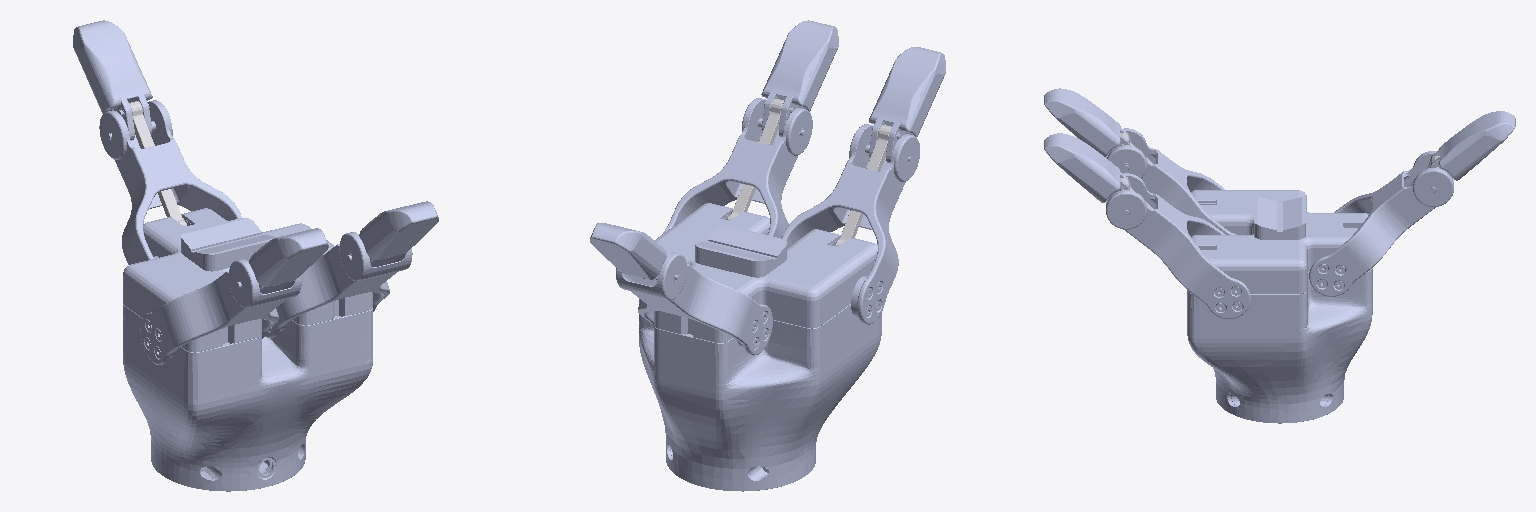
The robot description file, URDF, robot "crt_ctmg60_async":
<?xml version="1.0" encoding="utf-8"?>
<!-- This URDF was automatically created by SolidWorks to URDF Exporter! Originally created by Stephen Brawner (brawner@gmail.com) 
     Commit Version: 1.6.0-4-g7f85cfe  Build Version: 1.6.7995.38578
     For more information, please see http://wiki.ros.org/sw_urdf_exporter -->
<robot
  name="crt_ctmg60_async">
  <link
    name="base_link">
    <inertial>
      <origin
        xyz="1.06612975008198E-07 0.0651640687982908 0.00506261907181519"
        rpy="0 0 0" />
      <mass
        value="0.738980434592975" />
      <inertia
        ixx="0.00100260873098332"
        ixy="-6.39169163348383E-10"
        ixz="1.51412165015777E-09"
        iyy="0.00105454381646248"
        iyz="-3.29653574727043E-05"
        izz="0.00101986742199656" />
    </inertial>
    <visual>
      <origin
        xyz="0 0 0"
        rpy="0 0 0" />
      <geometry>
        <mesh
          filename="package://crt_ctmg60_gripper_visualization/meshes/base_link.STL" />
      </geometry>
      <material
        name="">
        <color
          rgba="0.792156862745098 0.819607843137255 0.933333333333333 1" />
      </material>
    </visual>
    <collision>
      <origin
        xyz="0 0 0"
        rpy="0 0 0" />
      <geometry>
        <mesh
          filename="package://crt_ctmg60_gripper_visualization/meshes/base_link.STL" />
      </geometry>
    </collision>
  </link>
  <link
    name="Left_1_Link">
    <inertial>
      <origin
        xyz="0.000273262855643795 0.0233261913433204 0.0285976471263432"
        rpy="0 0 0" />
      <mass
        value="0.0215071167822642" />
      <inertia
        ixx="1.4011468942223E-05"
        ixy="-1.39326201422641E-12"
        ixz="4.52201367689742E-12"
        iyy="1.43883315565052E-05"
        iyz="-5.85766504607096E-06"
        izz="1.16107641484436E-05" />
    </inertial>
    <visual>
      <origin
        xyz="0 0 0"
        rpy="0 0 0" />
      <geometry>
        <mesh
          filename="package://crt_ctmg60_gripper_visualization/meshes/Left_1_Link.STL" />
      </geometry>
      <material
        name="">
        <color
          rgba="0.792156862745098 0.819607843137255 0.933333333333333 1" />
      </material>
    </visual>
    <collision>
      <origin
        xyz="0 0 0"
        rpy="0 0 0" />
      <geometry>
        <mesh
          filename="package://crt_ctmg60_gripper_visualization/meshes/Left_1_Link.STL" />
      </geometry>
    </collision>
  </link>
  <joint
    name="Left_1_Joint"
    type="revolute">
    <origin
      xyz="0.0308 -0.03 0.09"
      rpy="1.5708 0 0" />
    <parent
      link="base_link" />
    <child
      link="Left_1_Link" />
    <axis
      xyz="-1 0 0" />
    <limit
      lower="0"
      upper="0.85"
      effort="2"
      velocity="1000" />
  </joint>
  <link
    name="Left_Finger_1_Link">
    <inertial>
      <origin
        xyz="-9.99979337239602E-05 0.0173304377742645 0.0254053992545981"
        rpy="0 0 0" />
      <mass
        value="0.0169639919301774" />
      <inertia
        ixx="3.45765752035242E-06"
        ixy="4.57118773032997E-13"
        ixz="-2.06074112843252E-12"
        iyy="2.68992022173363E-06"
        iyz="-1.39088232989287E-06"
        izz="2.17888844054312E-06" />
    </inertial>
    <visual>
      <origin
        xyz="0 0 0"
        rpy="0 0 0" />
      <geometry>
        <mesh
          filename="package://crt_ctmg60_gripper_visualization/meshes/Left_Finger_1_Link.STL" />
      </geometry>
      <material
        name="">
        <color
          rgba="0.792156862745098 0.819607843137255 0.933333333333333 1" />
      </material>
    </visual>
    <collision>
      <origin
        xyz="0 0 0"
        rpy="0 0 0" />
      <geometry>
        <mesh
          filename="package://crt_ctmg60_gripper_visualization/meshes/Left_Finger_1_Link.STL" />
      </geometry>
    </collision>
  </link>
  <joint
    name="Left_Finger_1_Joint"
    type="revolute">
    <origin
      xyz="0.0002 0.053831 0.056101"
      rpy="0 0 0" />
    <parent
      link="Left_1_Link" />
    <child
      link="Left_Finger_1_Link" />
    <axis
      xyz="1 0 0" />
    <limit
      lower="0"
      upper="0"
      effort="0"
      velocity="0" />
    <mimic
      joint="Left_1_Joint"
      multiplier="-1.8"
      offset="0" />
  </joint>
  <link
    name="Left_2_Link">
    <inertial>
      <origin
        xyz="0.000273262855643771 0.0233261913433325 0.028597647126332"
        rpy="0 0 0" />
      <mass
        value="0.0215071167822642" />
      <inertia
        ixx="1.40114689422229E-05"
        ixy="-1.39326201284651E-12"
        ixz="4.52201368325671E-12"
        iyy="1.43883315564992E-05"
        iyz="-5.85766504607237E-06"
        izz="1.16107641484496E-05" />
    </inertial>
    <visual>
      <origin
        xyz="0 0 0"
        rpy="0 0 0" />
      <geometry>
        <mesh
          filename="package://crt_ctmg60_gripper_visualization/meshes/Left_2_Link.STL" />
      </geometry>
      <material
        name="">
        <color
          rgba="0.792156862745098 0.819607843137255 0.933333333333333 1" />
      </material>
    </visual>
    <collision>
      <origin
        xyz="0 0 0"
        rpy="0 0 0" />
      <geometry>
        <mesh
          filename="package://crt_ctmg60_gripper_visualization/meshes/Left_2_Link.STL" />
      </geometry>
    </collision>
  </link>
  <joint
    name="Left_2_Joint"
    type="revolute">
    <origin
      xyz="-0.0312 -0.03 0.09"
      rpy="1.5708 0 0" />
    <parent
      link="base_link" />
    <child
      link="Left_2_Link" />
    <axis
      xyz="-1 0 0" />
    <limit
      lower="0"
      upper="0.85"
      effort="2"
      velocity="1000" />

  </joint>
  <link
    name="Left_Finger_2_Link">
    <inertial>
      <origin
        xyz="0.000100002066275924 0.0173705424990332 0.0253669448448809"
        rpy="0 0 0" />
      <mass
        value="0.0169639919301774" />
      <inertia
        ixx="3.45765752035242E-06"
        ixy="4.57118771284466E-13"
        ixz="-2.06074112839644E-12"
        iyy="2.689920221732E-06"
        iyz="-1.39088232989317E-06"
        izz="2.17888844054476E-06" />
    </inertial>
    <visual>
      <origin
        xyz="0 0 0"
        rpy="0 0 0" />
      <geometry>
        <mesh
          filename="package://crt_ctmg60_gripper_visualization/meshes/Left_Finger_2_Link.STL" />
      </geometry>
      <material
        name="">
        <color
          rgba="0.792156862745098 0.819607843137255 0.933333333333333 1" />
      </material>
    </visual>
    <collision>
      <origin
        xyz="0 0 0"
        rpy="0 0 0" />
      <geometry>
        <mesh
          filename="package://crt_ctmg60_gripper_visualization/meshes/Left_Finger_2_Link.STL" />
      </geometry>
    </collision>
  </link>
  <joint
    name="Left_Finger_2_Joint"
    type="revolute">
    <origin
      xyz="0.0002 0.053791 0.056139"
      rpy="0 0 0" />
    <parent
      link="Left_2_Link" />
    <child
      link="Left_Finger_2_Link" />
    <axis
      xyz="1 0 0" />
    <limit
      lower="0"
      upper="0"
      effort="0"
      velocity="0" />
    <mimic
      joint="Left_2_Joint"
      multiplier="-1.8"
      offset="0" />
  </joint>
  <link
    name="Right_1_Link">
    <inertial>
      <origin
        xyz="0.00027326285564154 0.023326191343288 0.0285976471263683"
        rpy="0 0 0" />
      <mass
        value="0.0215071167822642" />
      <inertia
        ixx="1.4011468942223E-05"
        ixy="-1.39326201332782E-12"
        ixz="4.5220136837645E-12"
        iyy="1.4388331556517E-05"
        iyz="-5.85766504606817E-06"
        izz="1.16107641484319E-05" />
    </inertial>
    <visual>
      <origin
        xyz="0 0 0"
        rpy="0 0 0" />
      <geometry>
        <mesh
          filename="package://crt_ctmg60_gripper_visualization/meshes/Right_1_Link.STL" />
      </geometry>
      <material
        name="">
        <color
          rgba="0.792156862745098 0.819607843137255 0.933333333333333 1" />
      </material>
    </visual>
    <collision>
      <origin
        xyz="0 0 0"
        rpy="0 0 0" />
      <geometry>
        <mesh
          filename="package://crt_ctmg60_gripper_visualization/meshes/Right_1_Link.STL" />
      </geometry>
    </collision>
  </link>
  <joint
    name="Right_1_Joint"
    type="revolute">
    <origin
      xyz="0.0002 0.03 0.09"
      rpy="1.5708 0 3.1416" />
    <parent
      link="base_link" />
    <child
      link="Right_1_Link" />
    <axis
      xyz="1 0 0" />
    <limit
      lower="0"
      upper="-0.85"
      effort="2"
      velocity="1000" />

  </joint>
  <link
    name="Right_Finger_1_Link">
    <inertial>
      <origin
        xyz="-9.9997933724105E-05 0.0150603351384396 0.0276755032550735"
        rpy="0 0 0" />
      <mass
        value="0.0169639919301774" />
      <inertia
        ixx="3.45765752035243E-06"
        ixy="4.57118769946537E-13"
        ixz="-2.06074113114725E-12"
        iyy="2.6899202217405E-06"
        iyz="-1.39088232989161E-06"
        izz="2.17888844053625E-06" />
    </inertial>
    <visual>
      <origin
        xyz="0 0 0"
        rpy="0 0 0" />
      <geometry>
        <mesh
          filename="package://crt_ctmg60_gripper_visualization/meshes/Right_Finger_1_Link.STL" />
      </geometry>
      <material
        name="">
        <color
          rgba="0.792156862745098 0.819607843137255 0.933333333333333 1" />
      </material>
    </visual>
    <collision>
      <origin
        xyz="0 0 0"
        rpy="0 0 0" />
      <geometry>
        <mesh
          filename="package://crt_ctmg60_gripper_visualization/meshes/Right_Finger_1_Link.STL" />
      </geometry>
    </collision>
  </link>
  <joint
    name="Right_Finger_1_Joint"
    type="revolute">
    <origin
      xyz="0.0002 0.056101 0.053831"
      rpy="0 0 0" />
    <parent
      link="Right_1_Link" />
    <child
      link="Right_Finger_1_Link" />
    <axis
      xyz="-1 0 0" />
    <limit
      lower="0"
      upper="0"
      effort="0"
      velocity="0" />
    <mimic
      joint="Right_1_Joint"
      multiplier="-1.8"
      offset="0" />
  </joint>
  <link
    name="Left_Lever_1_Link">
    <inertial>
      <origin
        xyz="1.73472347597681E-17 0.022858368168856 0.021912718445164"
        rpy="0 0 0" />
      <mass
        value="0.00435906008366628" />
      <inertia
        ixx="1.70624125501734E-06"
        ixy="-2.25269328905447E-22"
        ixz="-2.28890200460411E-22"
        iyy="8.3034348919265E-07"
        iyz="-8.42948179089945E-07"
        izz="9.01593892982332E-07" />
    </inertial>
    <visual>
      <origin
        xyz="0 0 0"
        rpy="0 0 0" />
      <geometry>
        <mesh
          filename="package://crt_ctmg60_gripper_visualization/meshes/Left_Lever_1_Link.STL" />
      </geometry>
      <material
        name="">
        <color
          rgba="0.866666666666667 0.866666666666667 0.890196078431372 1" />
      </material>
    </visual>
    <collision>
      <origin
        xyz="0 0 0"
        rpy="0 0 0" />
      <geometry>
        <mesh
          filename="package://crt_ctmg60_gripper_visualization/meshes/Left_Lever_1_Link.STL" />
      </geometry>
    </collision>
  </link>
  <joint
    name="Left_Lever_1_Joint"
    type="revolute">
    <origin
      xyz="0.031 -0.048 0.104"
      rpy="1.5708 0 0" />
    <parent
      link="base_link" />
    <child
      link="Left_Lever_1_Link" />
    <axis
      xyz="1 0 0" />
    <limit
      lower="0"
      upper="0"
      effort="0"
      velocity="0" />
    <mimic
      joint="Left_1_Joint"
      multiplier="-1.4"
      offset="0" />
  </joint>
  <link
    name="Left_Lever_2_Link">
    <inertial>
      <origin
        xyz="-2.0122792321331E-16 0.0228583681688763 0.0219127184451429"
        rpy="0 0 0" />
      <mass
        value="0.00435906008366629" />
      <inertia
        ixx="1.70624125501734E-06"
        ixy="3.47893339000985E-22"
        ixz="3.08157468571915E-22"
        iyy="8.30343489191447E-07"
        iyz="-8.42948179089895E-07"
        izz="9.01593892983539E-07" />
    </inertial>
    <visual>
      <origin
        xyz="0 0 0"
        rpy="0 0 0" />
      <geometry>
        <mesh
          filename="package://crt_ctmg60_gripper_visualization/meshes/Left_Lever_2_Link.STL" />
      </geometry>
      <material
        name="">
        <color
          rgba="0.866666666666667 0.866666666666667 0.890196078431372 1" />
      </material>
    </visual>
    <collision>
      <origin
        xyz="0 0 0"
        rpy="0 0 0" />
      <geometry>
        <mesh
          filename="package://crt_ctmg60_gripper_visualization/meshes/Left_Lever_2_Link.STL" />
      </geometry>
    </collision>
  </link>
  <joint
    name="Left_Lever_2_Joint"
    type="revolute">
    <origin
      xyz="-0.031 -0.048 0.104"
      rpy="1.5708 0 0" />
    <parent
      link="base_link" />
    <child
      link="Left_Lever_2_Link" />
    <axis
      xyz="1 0 0" />
    <limit
      lower="0"
      upper="0"
      effort="0"
      velocity="0" />
    <mimic
      joint="Left_2_Joint"
      multiplier="-1.4"
      offset="0" />
  </joint>
  <link
    name="Right_Lever_1_Link">
    <inertial>
      <origin
        xyz="-2.97384207878902E-16 0.0228583681688271 0.0219127184451942"
        rpy="0 0 0" />
      <mass
        value="0.00435906008366629" />
      <inertia
        ixx="1.70624125501734E-06"
        ixy="-5.33605711130666E-22"
        ixz="-5.01299017162607E-22"
        iyy="8.30343489195233E-07"
        iyz="-8.42948179090054E-07"
        izz="9.01593892979751E-07" />
    </inertial>
    <visual>
      <origin
        xyz="0 0 0"
        rpy="0 0 0" />
      <geometry>
        <mesh
          filename="package://crt_ctmg60_gripper_visualization/meshes/Right_Lever_1_Link.STL" />
      </geometry>
      <material
        name="">
        <color
          rgba="0.866666666666667 0.866666666666667 0.890196078431372 1" />
      </material>
    </visual>
    <collision>
      <origin
        xyz="0 0 0"
        rpy="0 0 0" />
      <geometry>
        <mesh
          filename="package://crt_ctmg60_gripper_visualization/meshes/Right_Lever_1_Link.STL" />
      </geometry>
    </collision>
  </link>
  <joint
    name="Right_Lever_1_Joint"
    type="revolute">
    <origin
      xyz="0 0.048 0.104"
      rpy="1.5708 0 3.1416" />
    <parent
      link="base_link" />
    <child
      link="Right_Lever_1_Link" />
    <axis
      xyz="1 0 0" />
    <limit
      lower="0"
      upper="0"
      effort="0"
      velocity="0" />
    <mimic
      joint="Right_1_Joint"
      multiplier="1.4"
      offset="0" />
  </joint>
</robot>

--- Render facts (derived) ---
3 views of the same robot in one strip: view 1: azimuth 30°, elevation 25°; view 2: azimuth 150°, elevation 25°; view 3: azimuth 270°, elevation 25° (orthographic).
Model crt_ctmg60_async with 10 links and 9 joints (9 revolute), rooted at base_link, posed all joints at 0.
Links seen in each view (by area): view 1: base_link, Right_1_Link, Left_2_Link, Left_1_Link, Right_Finger_1_Link, Left_Finger_2_Link, Left_Finger_1_Link, Right_Lever_1_Link; view 2: base_link, Left_2_Link, Left_1_Link, Right_1_Link, Left_Finger_2_Link, Left_Finger_1_Link, Right_Finger_1_Link, Left_Lever_1_Link, Left_Lever_2_Link; view 3: base_link, Right_1_Link, Left_1_Link, Left_2_Link, Right_Finger_1_Link, Left_Finger_1_Link, Left_Finger_2_Link.
Boxes of the visible links, left/top/right/bottom form: base_link: left=123, top=208, right=372, bottom=491; Right_1_Link: left=99, top=100, right=241, bottom=264; Left_2_Link: left=140, top=259, right=301, bottom=364; Left_1_Link: left=265, top=232, right=412, bottom=337; Right_Finger_1_Link: left=73, top=20, right=155, bottom=140; Left_Finger_2_Link: left=238, top=228, right=328, bottom=288; Left_Finger_1_Link: left=349, top=201, right=438, bottom=261; Right_Lever_1_Link: left=129, top=101, right=186, bottom=225; base_link: left=639, top=203, right=881, bottom=491; Left_2_Link: left=781, top=124, right=919, bottom=324; Left_1_Link: left=663, top=98, right=812, bottom=237; Right_1_Link: left=616, top=252, right=772, bottom=355; Left_Finger_2_Link: left=865, top=47, right=945, bottom=163; Left_Finger_1_Link: left=758, top=20, right=838, bottom=136; Right_Finger_1_Link: left=590, top=223, right=677, bottom=281; Left_Lever_1_Link: left=727, top=99, right=783, bottom=220; Left_Lever_2_Link: left=835, top=125, right=891, bottom=246; base_link: left=1187, top=190, right=1372, bottom=423; Right_1_Link: left=1309, top=151, right=1453, bottom=296; Left_1_Link: left=1106, top=173, right=1250, bottom=318; Left_2_Link: left=1106, top=128, right=1236, bottom=234; Right_Finger_1_Link: left=1428, top=111, right=1515, bottom=192; Left_Finger_1_Link: left=1044, top=133, right=1131, bottom=213; Left_Finger_2_Link: left=1044, top=88, right=1130, bottom=169.
Bounding box of the posed robot: 0.119 × 0.2747 × 0.1799 m (x, y, z).
Meshes: 10 distinct files referenced, 10 mesh visuals loaded (10 binary STL).
